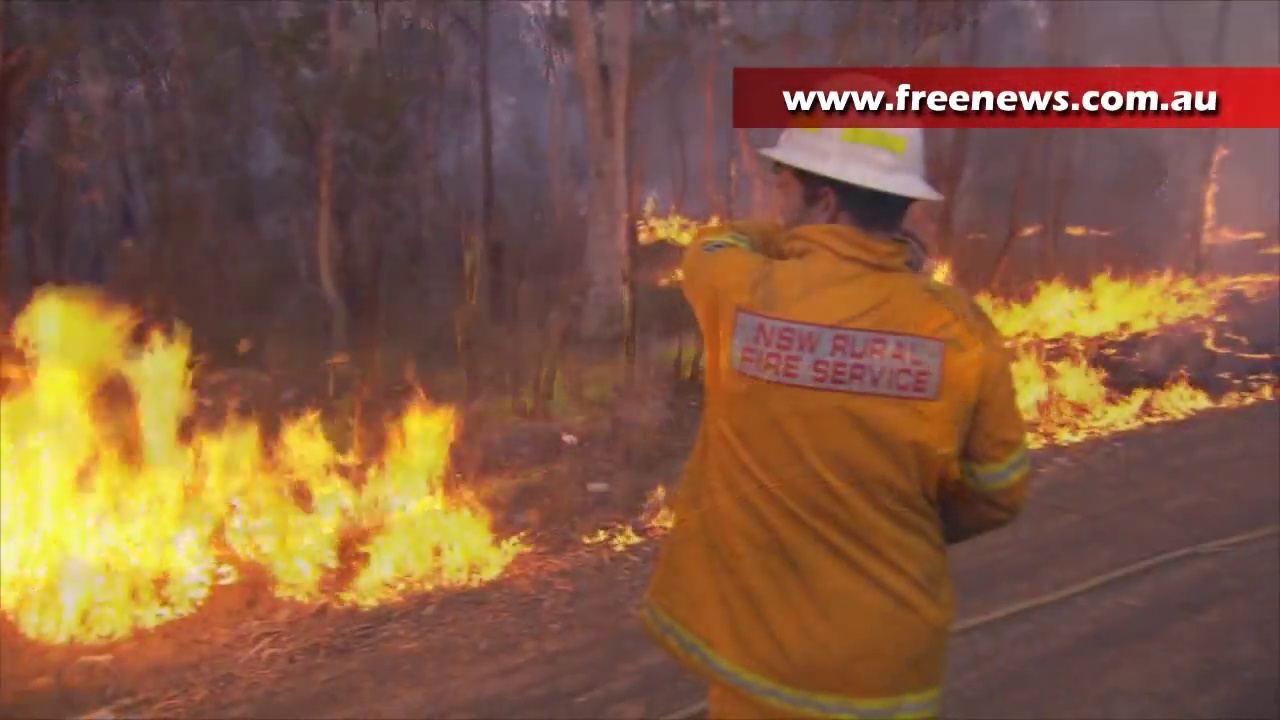fire: (1, 289, 517, 639), (1024, 355, 1213, 441), (993, 268, 1231, 336), (640, 214, 698, 243), (1208, 155, 1217, 244), (652, 505, 675, 531)
